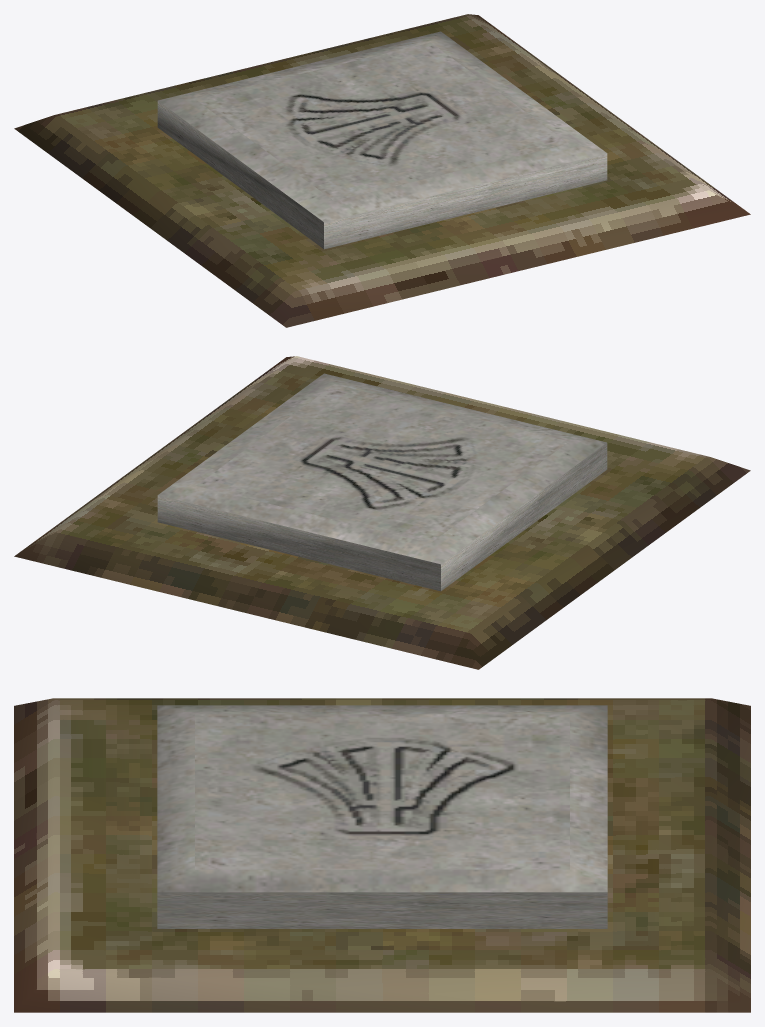
Rendered from EREBOR_RESET_BUTTON.fbx.
3 renders of one model, top to bottom at view 1: azimuth 30°, elevation 25°; view 2: azimuth 150°, elevation 25°; view 3: azimuth 270°, elevation 25°, orthographic. The views are drawn at different scales.
Visible parts, largest first — view 1: EREBOR_RESET_BUTTON; view 2: EREBOR_RESET_BUTTON; view 3: EREBOR_RESET_BUTTON.
Boxes of the visible parts, x1,y1,x2,y2 form: EREBOR_RESET_BUTTON: [14, 14, 750, 327]; EREBOR_RESET_BUTTON: [14, 356, 750, 669]; EREBOR_RESET_BUTTON: [14, 698, 750, 1012].
Size of the model in its own units: 13227 by 1353 by 13423.
Materials: 3 (3 with a texture image).
